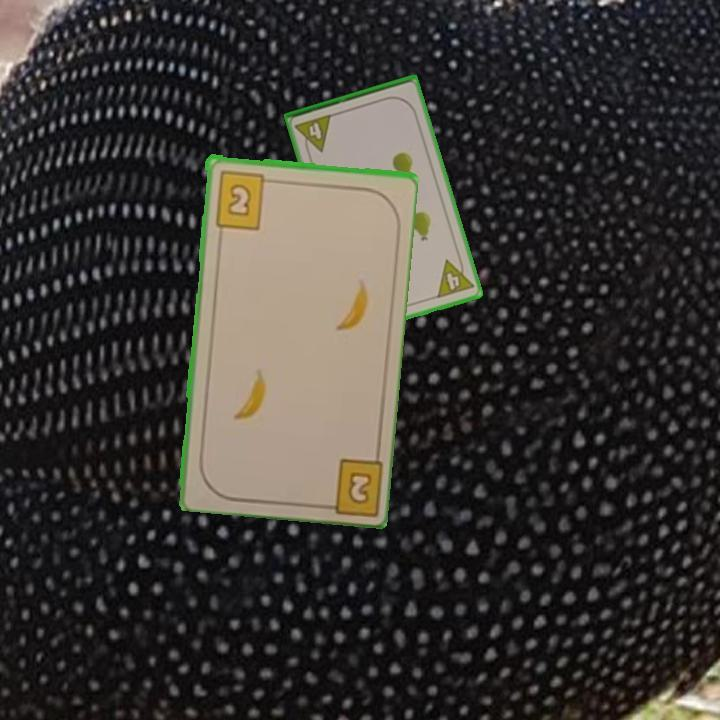2b: (211, 167, 276, 232), (314, 454, 383, 515)
4p: (433, 253, 477, 301), (292, 111, 335, 158)
